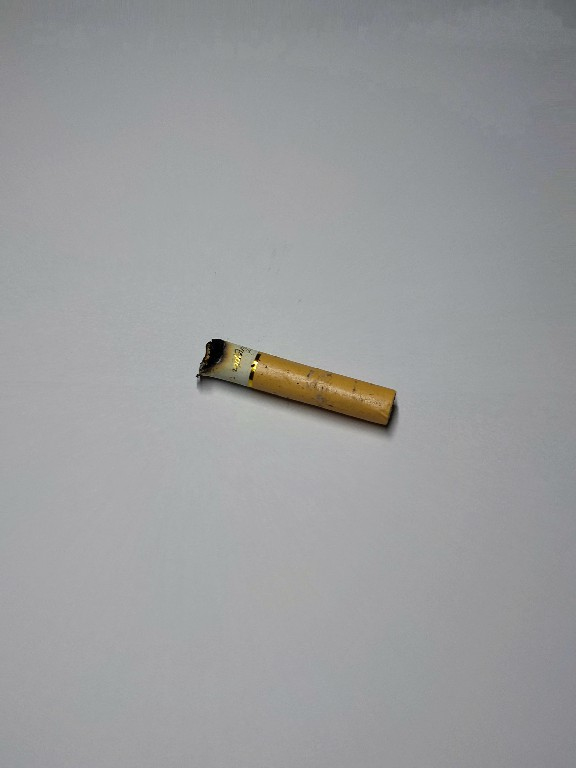cigarette: (190, 335, 402, 435)
